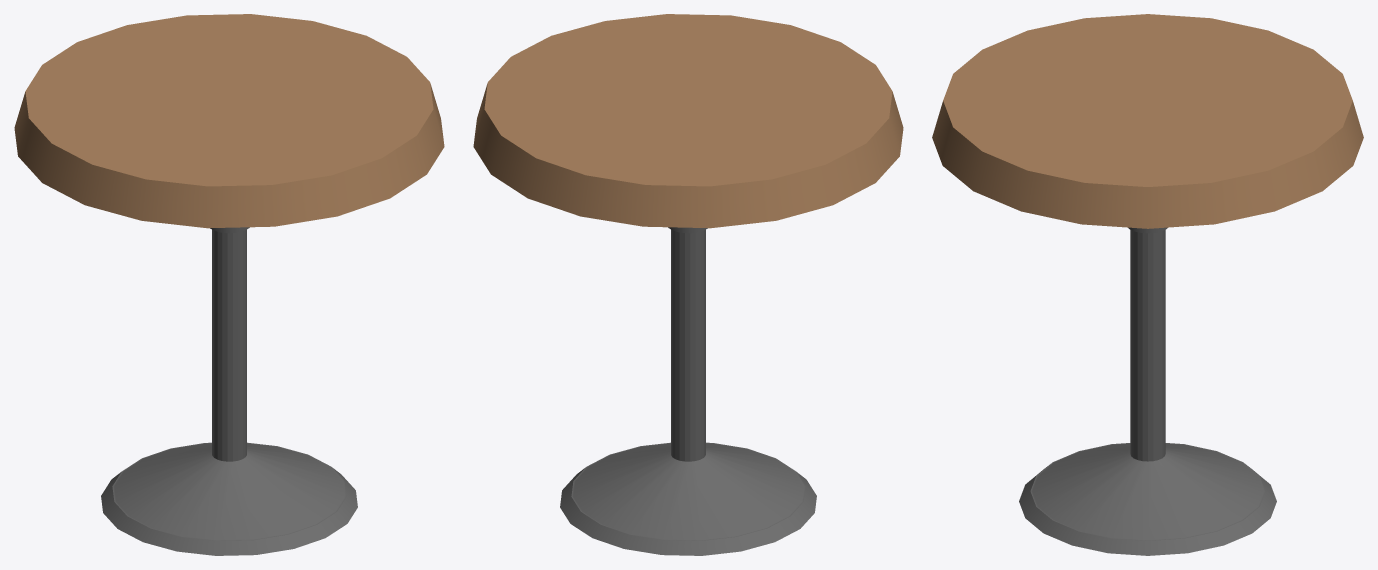
The model's file is chair.fbx.
3 views of the same model, side by side, from view 1: azimuth 30°, elevation 25°; view 2: azimuth 150°, elevation 25°; view 3: azimuth 270°, elevation 25° (orthographic).
Visible parts, largest first — view 1: pCylinder1; view 2: pCylinder1; view 3: pCylinder1.
Boxes of the visible parts, left/top/right/bottom form: pCylinder1: left=14, top=14, right=444, bottom=555; pCylinder1: left=473, top=14, right=903, bottom=555; pCylinder1: left=932, top=14, right=1363, bottom=555.
Size of the model in its own units: 3.35 by 3.43 by 3.35.
